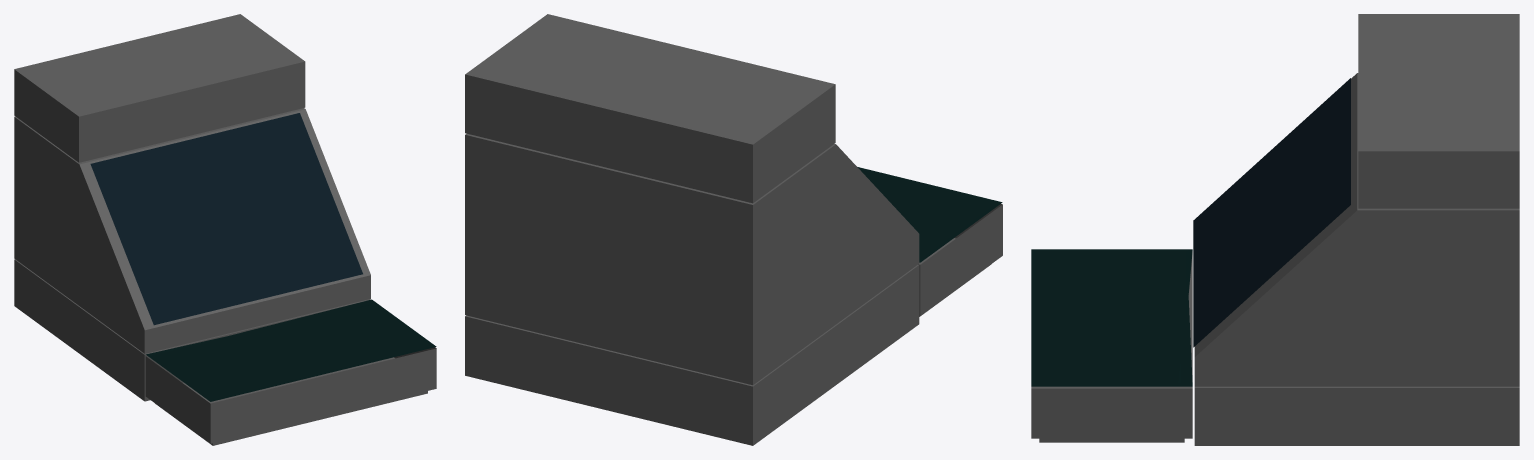
File: lab_computer.glb
The picture shows the model from 3 angles, left to right: view 1: azimuth 30°, elevation 25°; view 2: azimuth 150°, elevation 25°; view 3: azimuth 270°, elevation 25°; orthographic projection. The views are drawn at different scales.
Visible parts, largest first — view 1: lab_computer; view 2: lab_computer; view 3: lab_computer.
Boxes of the visible parts, x1,y1,x2,y2 form: lab_computer: [14, 14, 436, 445]; lab_computer: [465, 14, 1002, 445]; lab_computer: [1031, 14, 1519, 445].
Size of the model in its own units: 0.7552 by 0.7552 by 1.14.
